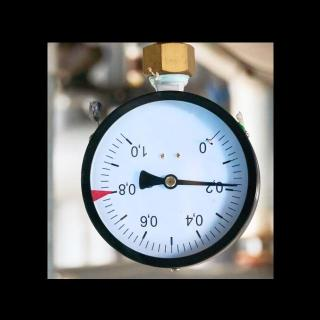gauge: (51, 42, 273, 278), (115, 127, 149, 159), (193, 124, 226, 156), (162, 173, 178, 190), (230, 181, 242, 189)
